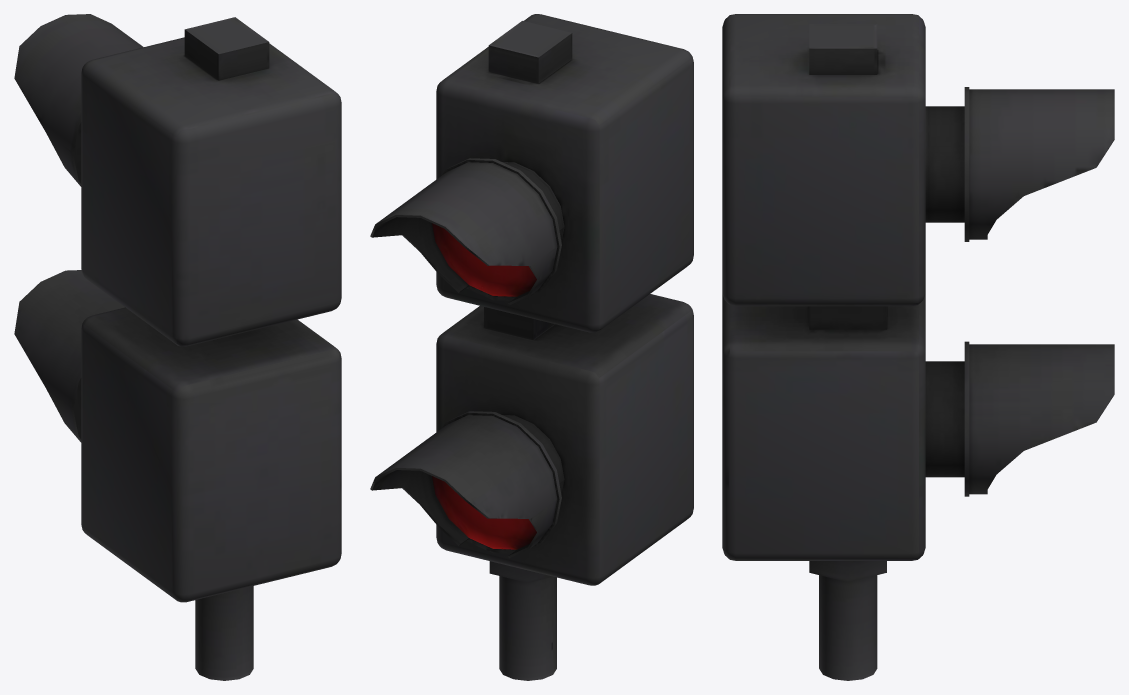
3 views of the same model, side by side, from view 1: azimuth 30°, elevation 25°; view 2: azimuth 150°, elevation 25°; view 3: azimuth 270°, elevation 25° (orthographic).
Parts seen in each view (by area): view 1: body0_model0_lod0_mesh0; view 2: body0_model0_lod0_mesh0; view 3: body0_model0_lod0_mesh0.
Part boxes in pixels (box(x1,y1,x2,y2)): body0_model0_lod0_mesh0: box(14, 14, 341, 680); body0_model0_lod0_mesh0: box(370, 14, 693, 680); body0_model0_lod0_mesh0: box(722, 14, 1114, 680).
Size of the model in its own units: 20 by 72 by 40.5.
Materials: 1 (1 with a texture image).
